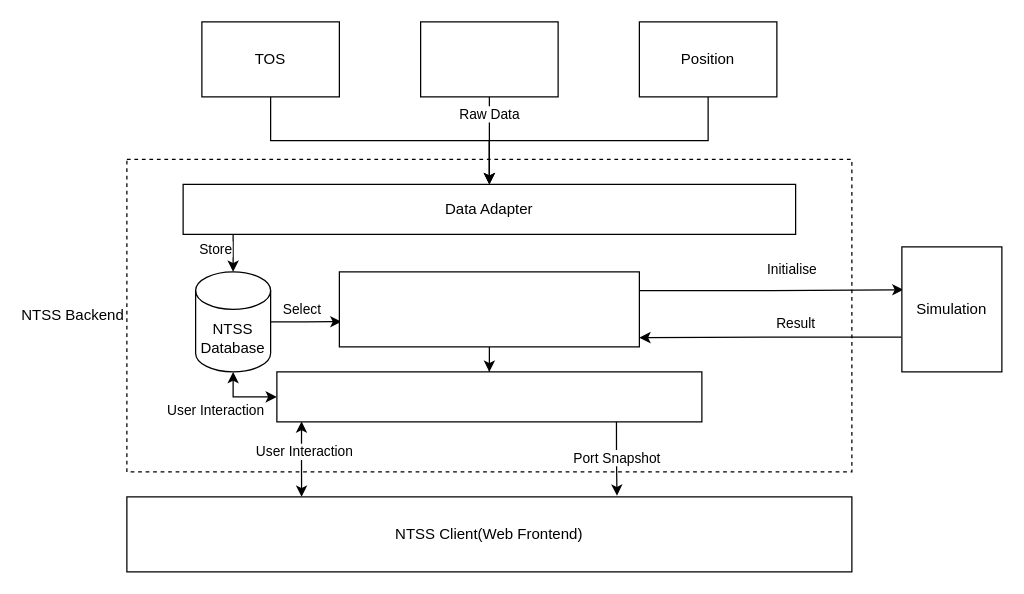
Some shapes in this 1024 by 594 pixel diagram are drawn without their labels. The shapes that lost their labels are listed below. From the top down, each one's box as (x1, y1, x2, y2) in pixels, then its label:
(419, 21, 558, 97): CTISTS
(338, 271, 639, 347): Data Analyse
(276, 371, 702, 422): Api Controller
